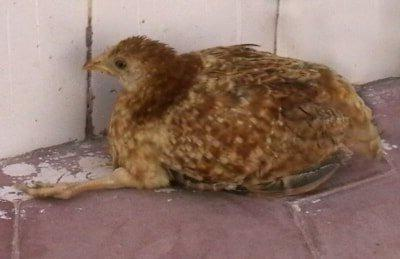AbNormal: (6, 25, 400, 224)
